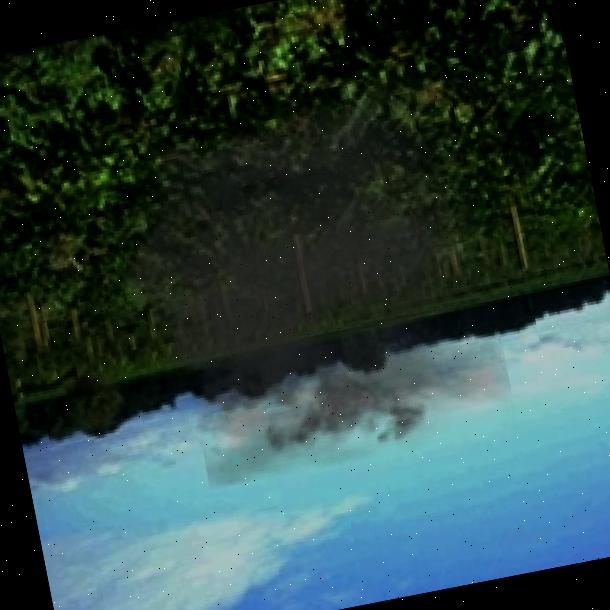smoke: (78, 67, 518, 500)
